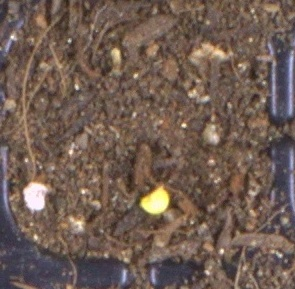chilli seed: (139, 185, 169, 215)
